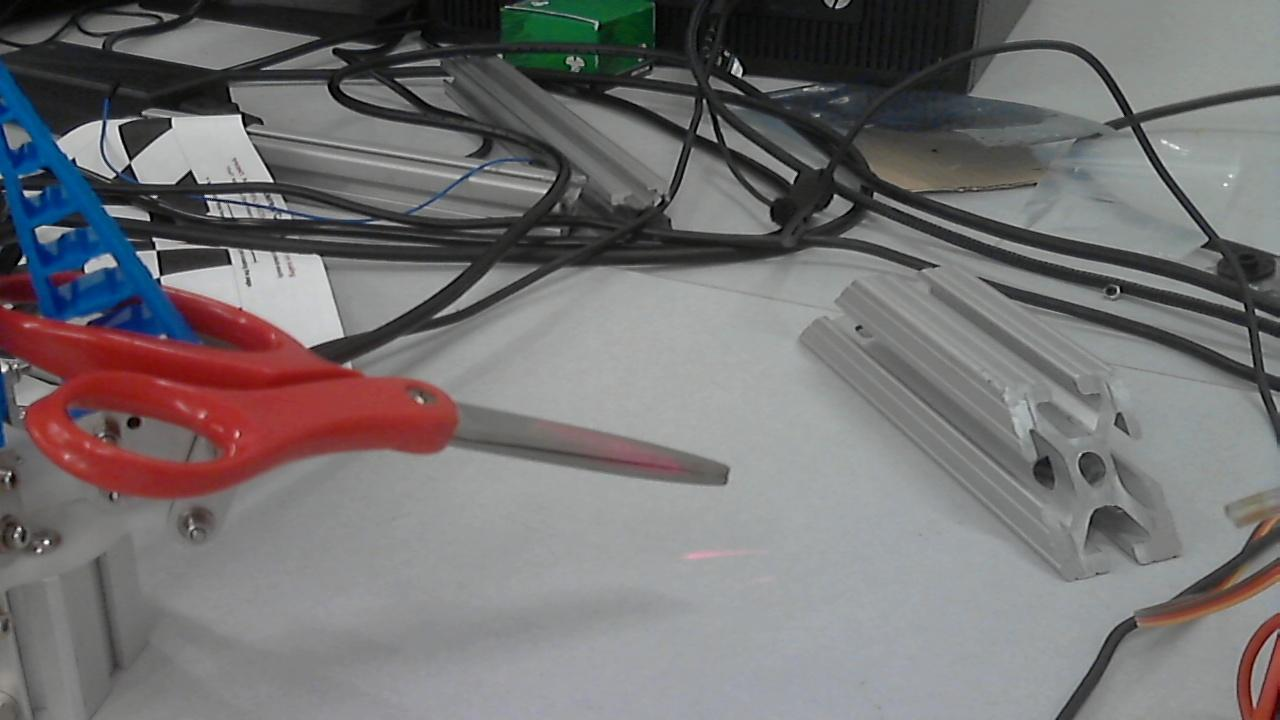Object scissors - Material metal - Pdfname tYexGlkiIXWc: (523, 403, 708, 483)
